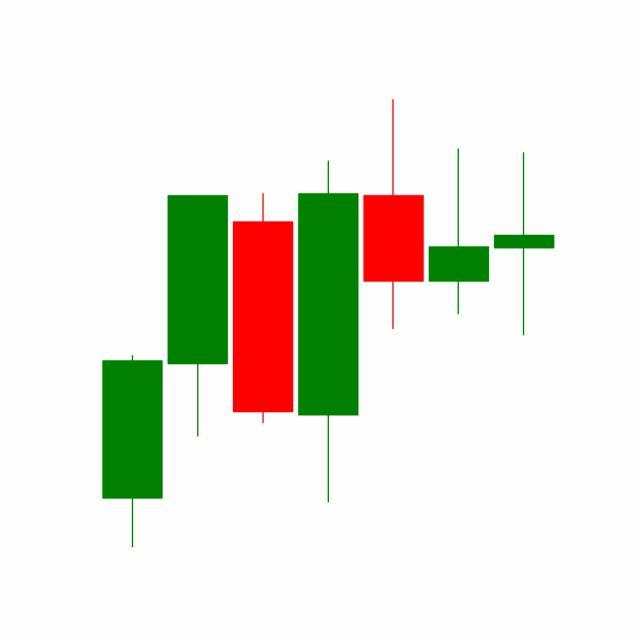Hikkake Pattern: (229, 99, 555, 508)
